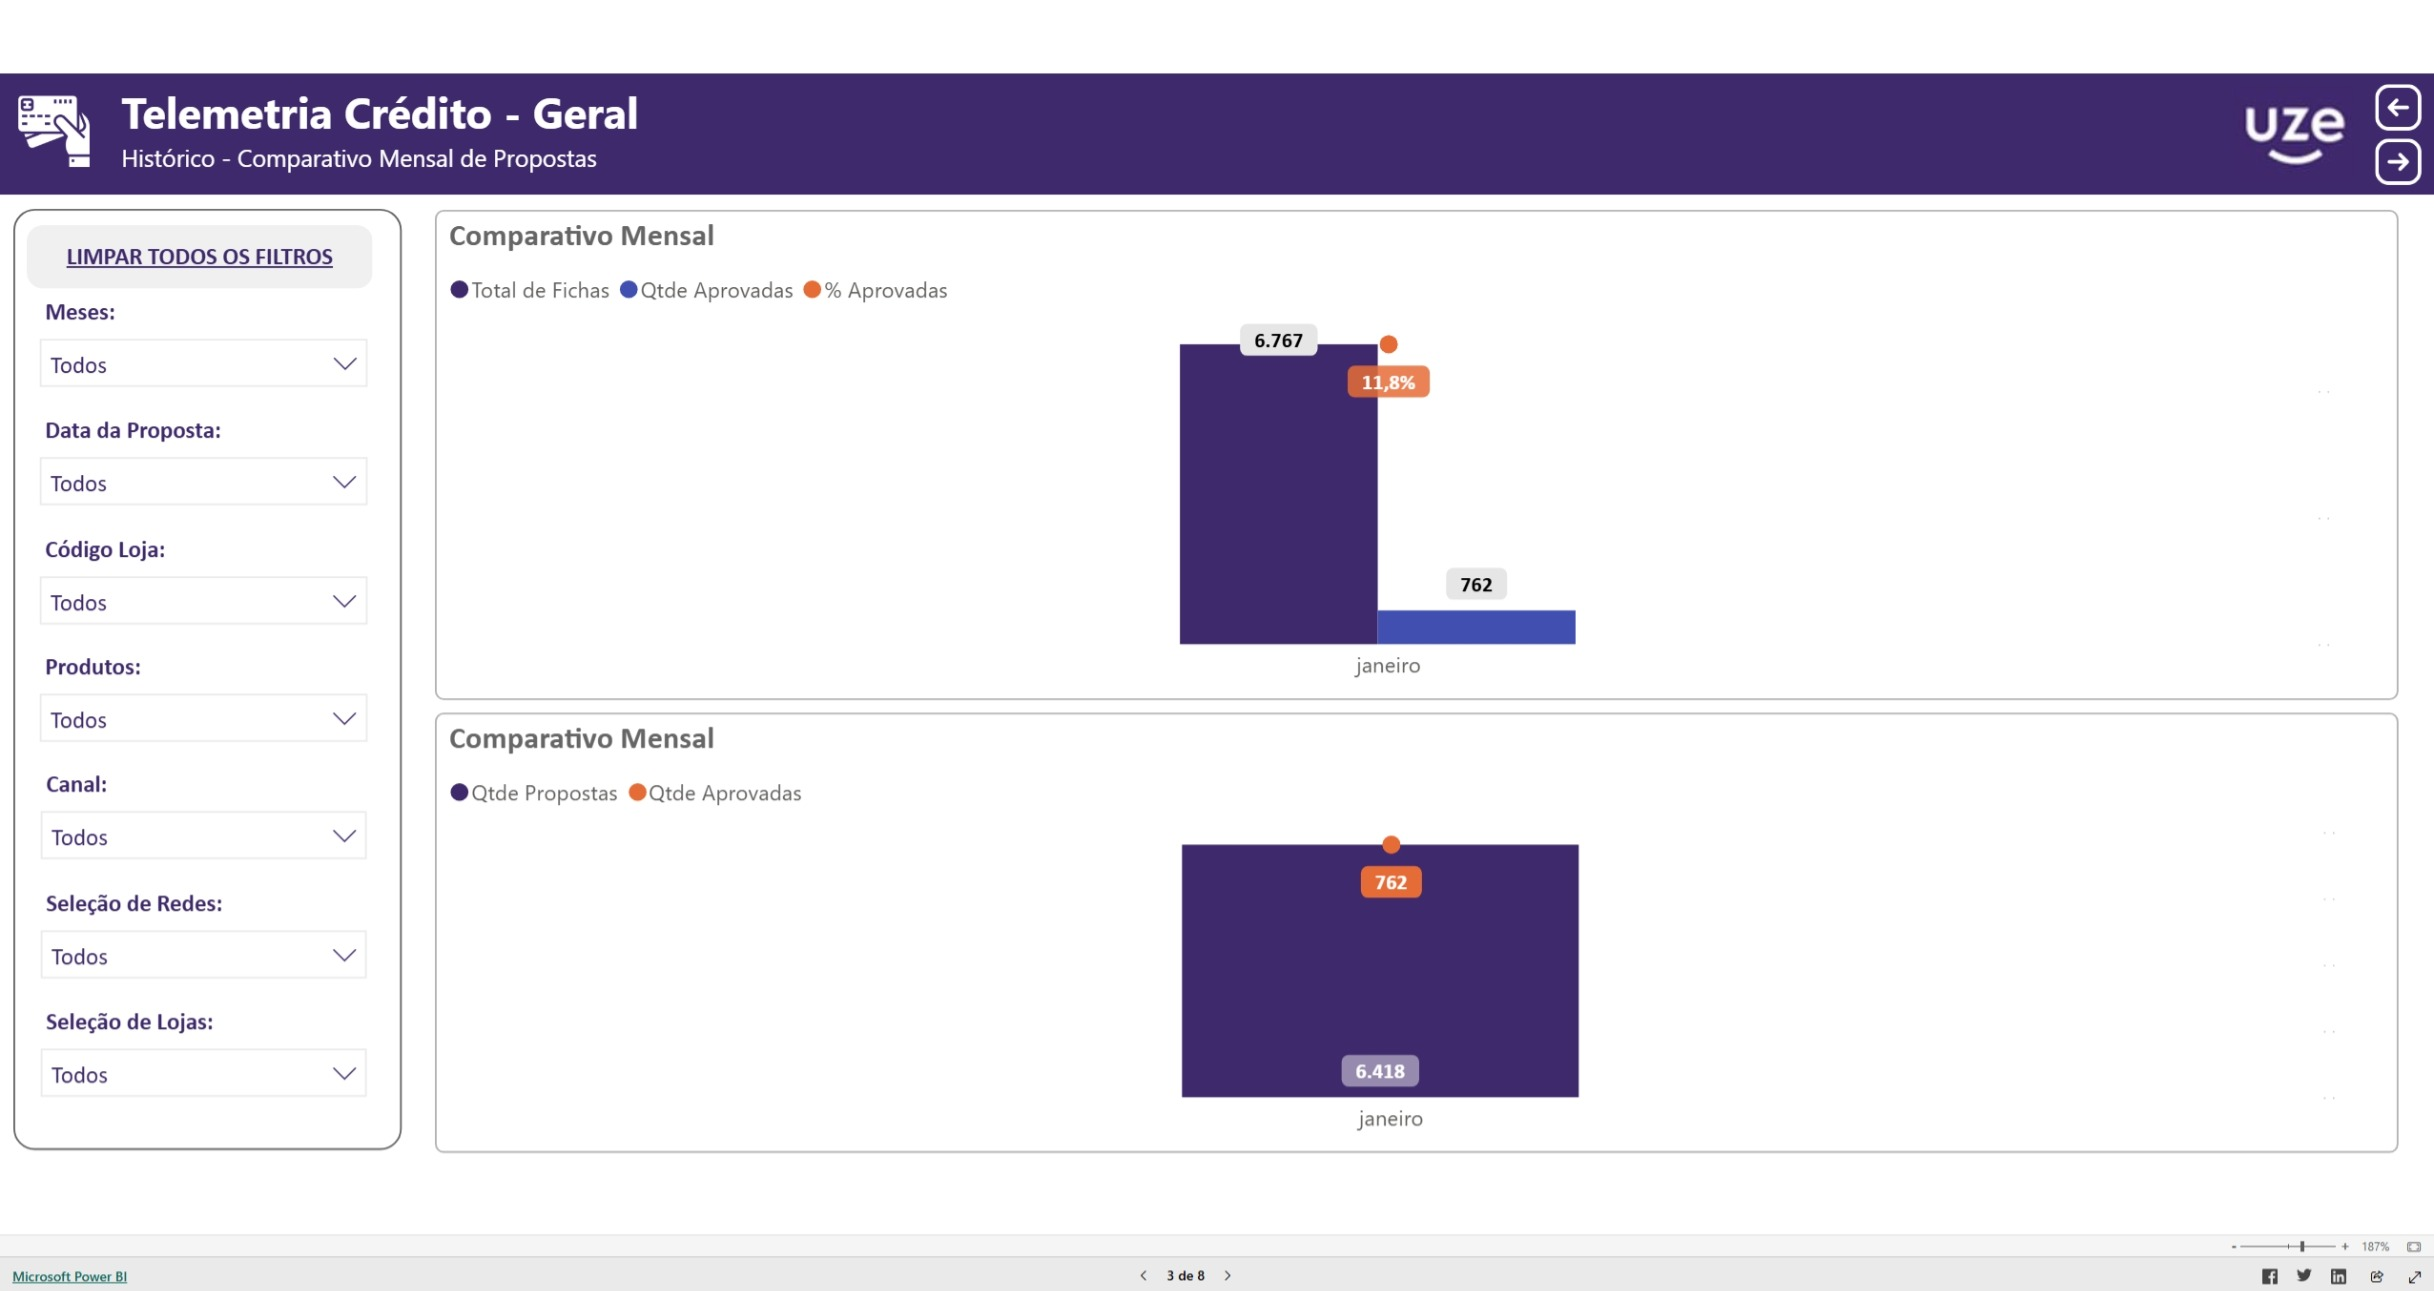

This screenshot's page, from the dashboard's own definition file:
{"tool":"powerbi","page":{"name":"Histórico","canvas":[1366,610],"ordinal":2},"visuals":[{"type":"shape","box":[7.6,76.2,218.4,528.1],"z":0},{"type":"shape","box":[0,0,1366,68],"z":2000},{"type":"textbox","box":[63.4,0,430.8,44.4],"z":3000},{"type":"textbox","box":[63.2,33.8,430.4,30.8],"z":4000},{"type":"slicer","fields":{"Values":["Propostas.emissao.Variation.Hierarquia de datas.Ano","Propostas.emissao.Variation.Hierarquia de datas.Mês"]},"box":[12.5,119.9,204.2,64.6],"z":5000},{"type":"slicer","fields":{"Values":["Propostas.emissao"]},"box":[12.4,186.1,203.7,65.9],"z":6000},{"type":"slicer","fields":{"Values":["Propostas.lojista"]},"box":[12.4,253.2,203.7,64.7],"z":7000},{"type":"slicer","fields":{"Values":["Propostas.nome_produto"]},"box":[12.4,319.1,203.7,64.7],"z":8000},{"type":"slicer","fields":{"Values":["Propostas.nome_rede"]},"box":[12.7,451.9,203.1,64.7],"z":9000},{"type":"slicer","fields":{"Values":["Propostas.nome_loja"]},"box":[12.7,518,203.1,64.7],"z":10000},{"type":"slicer","fields":{"Values":["Propostas.canal"]},"box":[12.7,384.7,203.1,64.7],"z":11000},{"type":"shape","box":[15.2,85.1,194.2,35.5],"z":12000},{"type":"image","box":[4.4,7.3,52.9,49.9],"z":13000},{"type":"image","box":[1327.9,31.7,35.5,35.5],"z":14000},{"type":"image","box":[1327.9,1.3,35.5,35.5],"z":15000},{"type":"lineClusteredColumnComboChart","title":"Comparativo Mensal","fields":{"Category":["Propostas.emissao.Variation.Hierarquia de datas.Mês"],"Y":["Sum(Propostas.qtd_propostas)","#Medidas.Propostas_aprovada"],"Y2":["#Medidas.%_Aprovadas"]},"box":[243.8,76.4,1101.6,274.7],"z":17000},{"type":"lineStackedColumnComboChart","title":"Comparativo Mensal","fields":{"Category":["Propostas.emissao.Variation.Hierarquia de datas.Mês"],"Y":["#Medidas.Propostas"],"Y2":["#Medidas.Propostas_aprovada"]},"box":[243.8,358.4,1101.6,246.8],"z":18000}]}

Visuals, with their boxes on the page's 1366x610 design canvas (x1, y1, x2, y2). These are canvas units, not pixel positions in the 2434x1291 screenshot, which may show the page scaled, cropped or inside an application window:
shape: 8:76:226:604
shape: 0:0:1366:68
textbox: 63:0:494:44
textbox: 63:34:494:65
slicer - Propostas.emissao.Variation.Hierarquia de datas.Ano x Propostas.emissao.Variation.Hierarquia de datas.Mês: 12:120:217:184
slicer - Propostas.emissao: 12:186:216:252
slicer - Propostas.lojista: 12:253:216:318
slicer - Propostas.nome_produto: 12:319:216:384
slicer - Propostas.nome_rede: 13:452:216:517
slicer - Propostas.nome_loja: 13:518:216:583
slicer - Propostas.canal: 13:385:216:449
shape: 15:85:209:121
image: 4:7:57:57
image: 1328:32:1363:67
image: 1328:1:1363:37
"Comparativo Mensal" lineClusteredColumnComboChart: 244:76:1345:351
"Comparativo Mensal" lineStackedColumnComboChart: 244:358:1345:605
